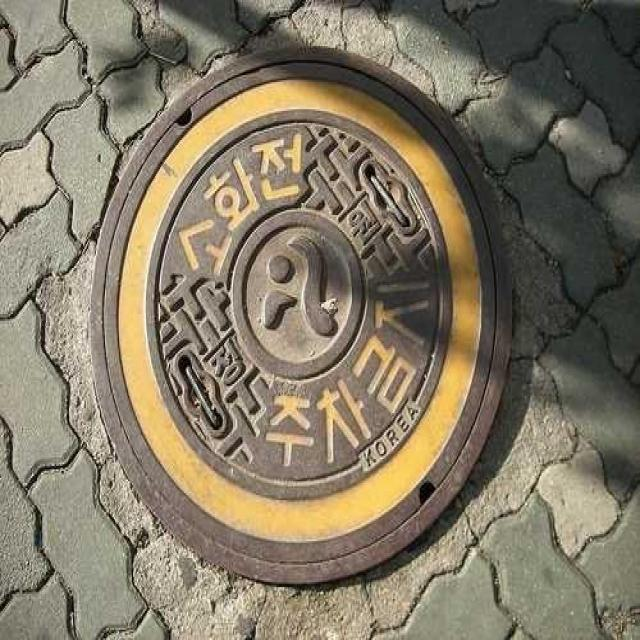manhole: (92, 46, 516, 591)
